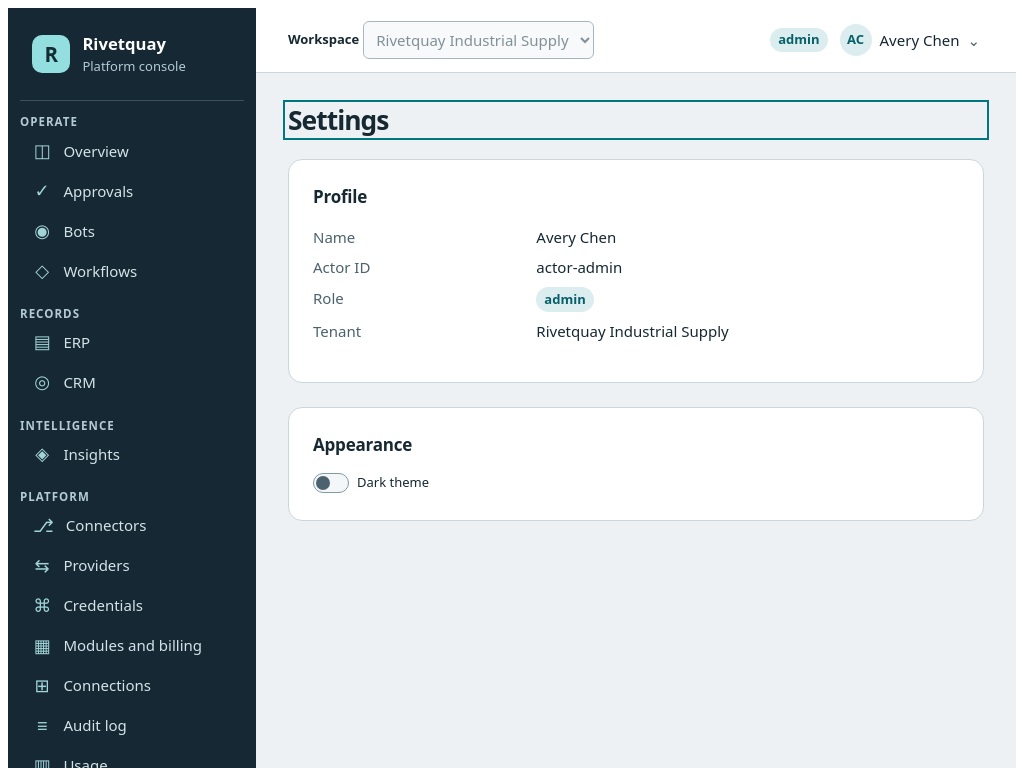
it: platform app › renders overview, injected screens, profile and persisted theme
Later steps or results of the test are not shown.
Expected: the dropdown labelled "Workspace" shows "Rivetquay Industrial Supply", 363,21 -> 594,59
Expected: the text "admin" in the row of "Workspace" is shown, 778,30 -> 820,48
Click the switch labelled "Dark theme" at coordinates (331, 483), box 313,473 -> 349,493
(page scrolled)
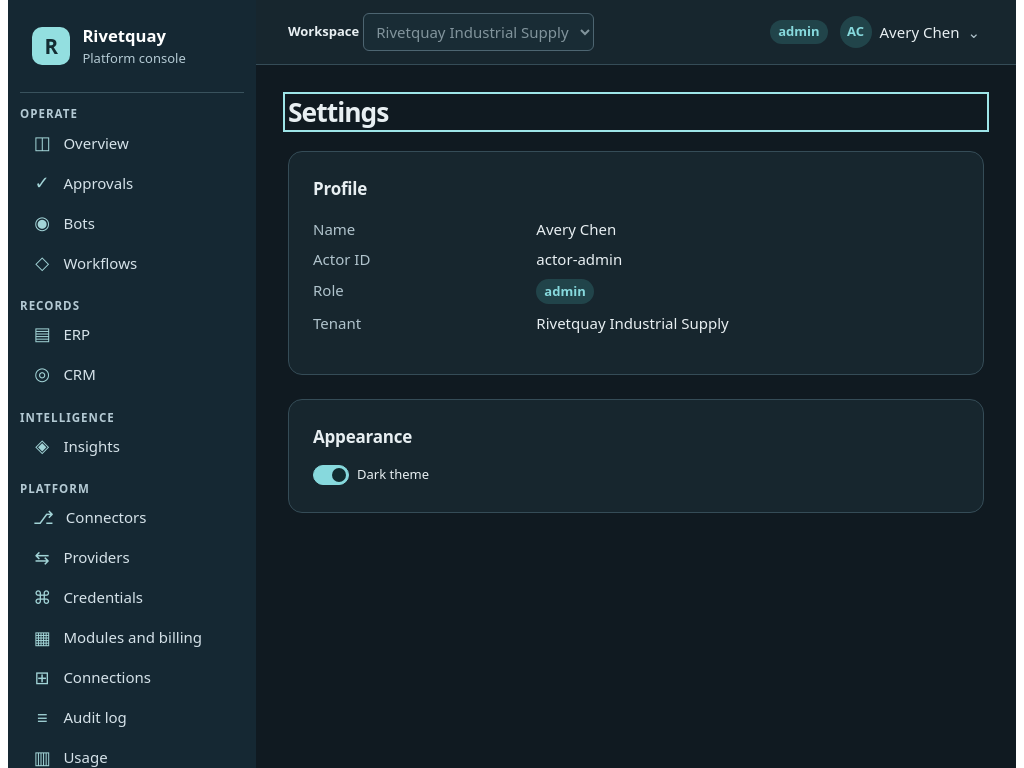
Now the element with class "bs-platform" has attribute data-theme="dark"
